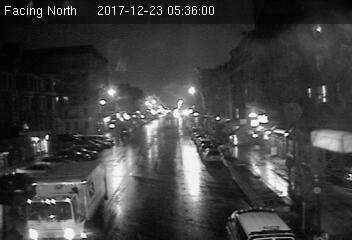car: (202, 147, 224, 163)
police: (225, 204, 304, 240)
truck: (22, 159, 109, 237)
